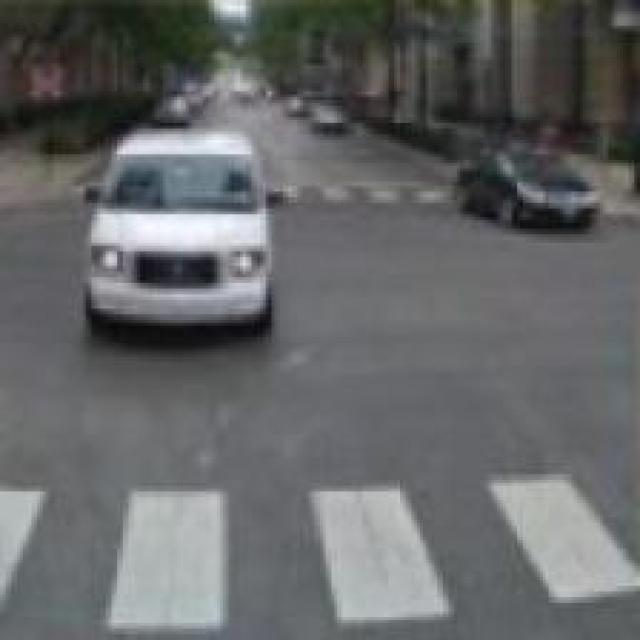zebra: (0, 457, 640, 640)
